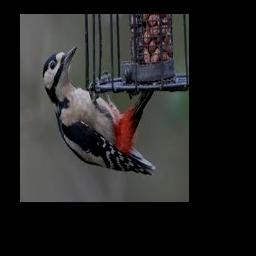Woodpecker: (42, 46, 155, 175)
